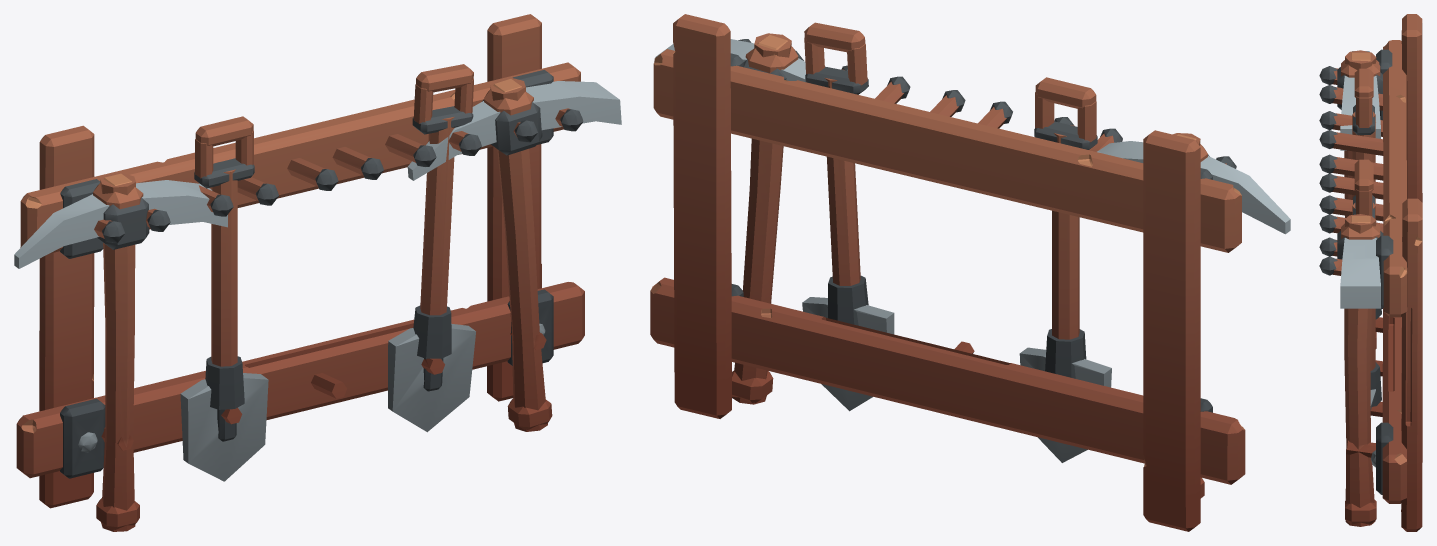
File: tool_rack.glb
The picture shows the model from 3 angles, left to right: view 1: azimuth 30°, elevation 25°; view 2: azimuth 150°, elevation 25°; view 3: azimuth 270°, elevation 25°; orthographic projection. The views are drawn at different scales.
Visible parts, largest first — view 1: tool_rack; view 2: tool_rack; view 3: tool_rack.
Boxes of the visible parts, x1=… form: tool_rack: x1=14, y1=14, x2=621, y2=531; tool_rack: x1=650, y1=14, x2=1290, y2=531; tool_rack: x1=1319, y1=14, x2=1422, y2=531.
Size of the model in its own units: 1.7 by 1.03 by 0.3.
1 material, 1 textured.
